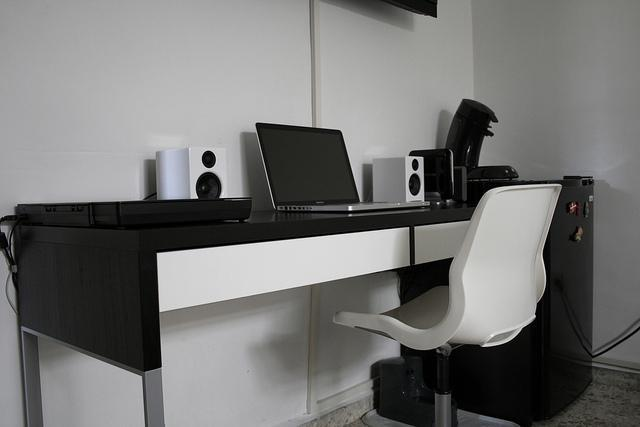tv: (245, 120, 363, 212)
